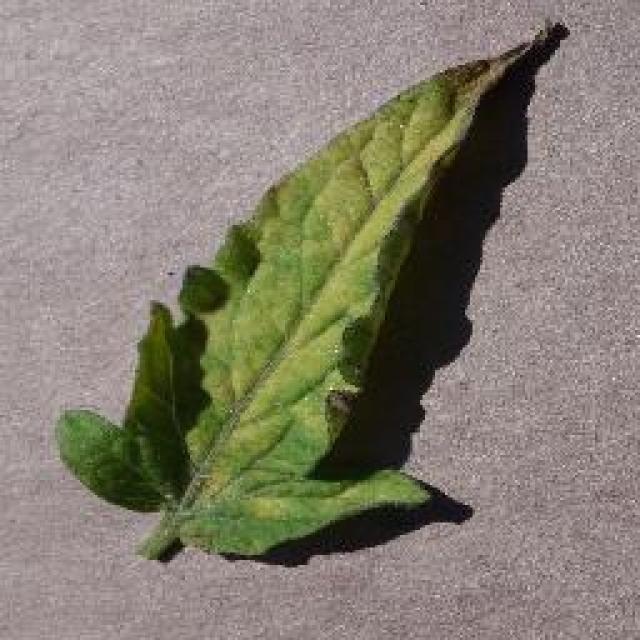Tomato___Leaf_Mold: (60, 30, 545, 555)
